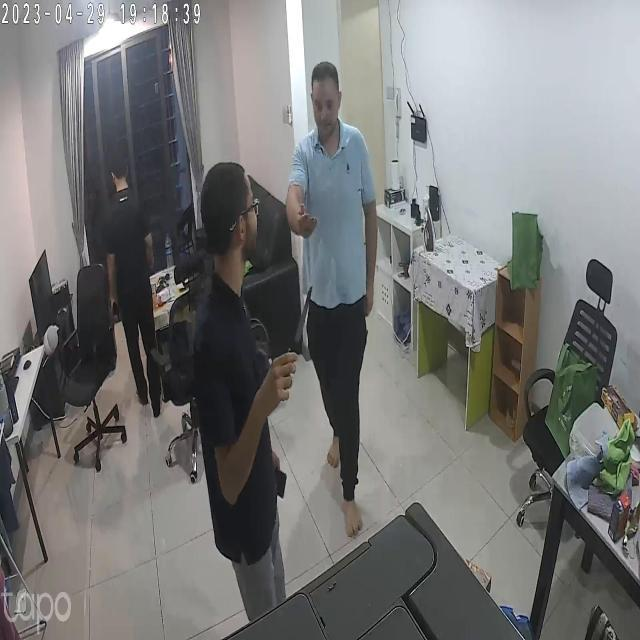Knife: (288, 280, 322, 352)
